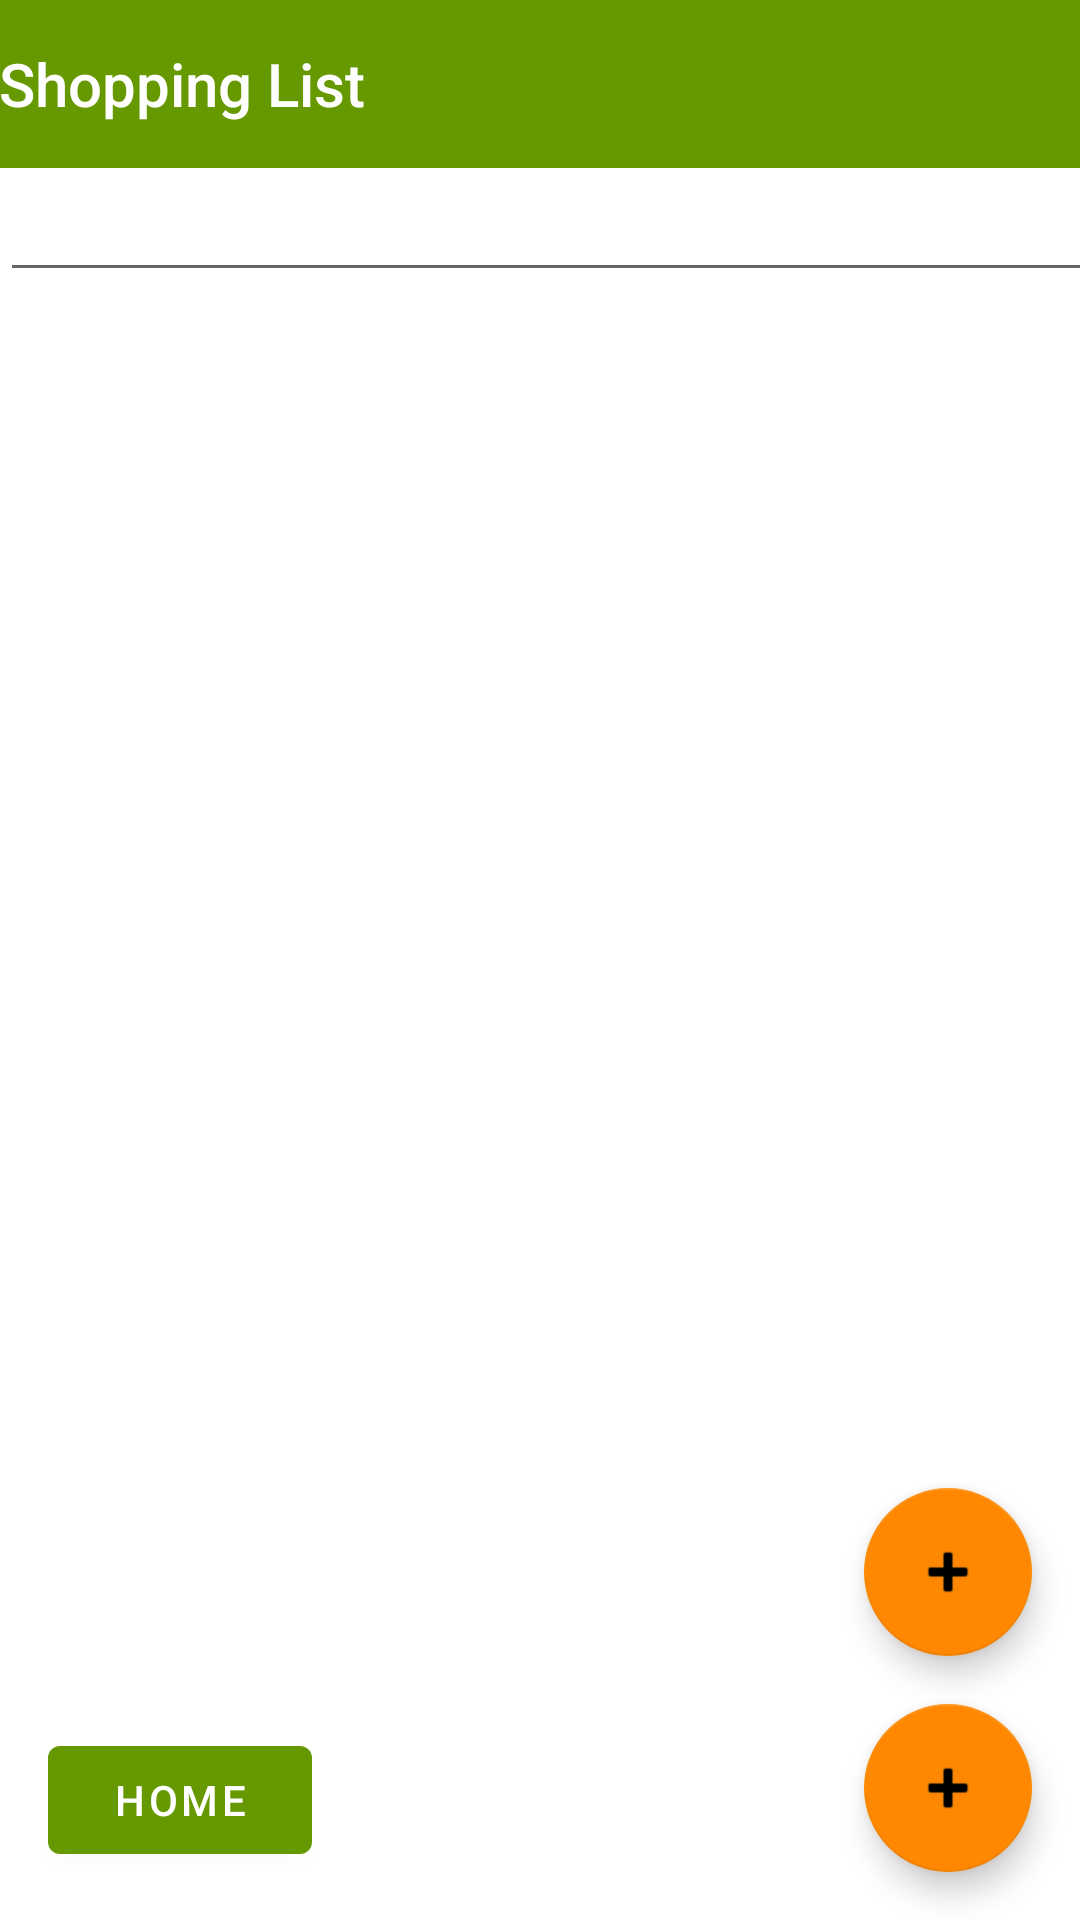

Icon bounding boxes for this 1080 x 1920 phone screenshot, format (x1, y1, x2, y2):
add: (864, 1488, 1032, 1656), (864, 1704, 1032, 1872)
